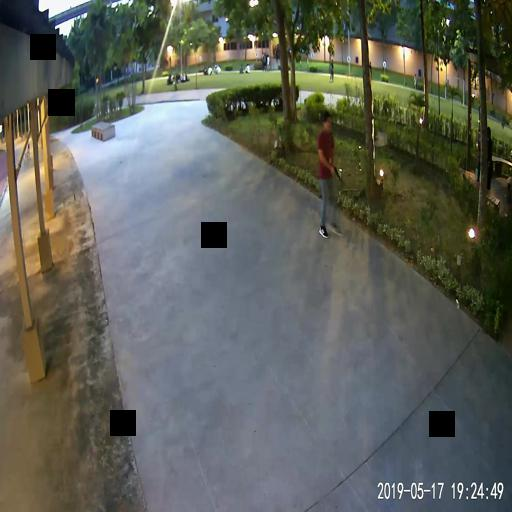Handgun: (329, 163, 339, 179)
